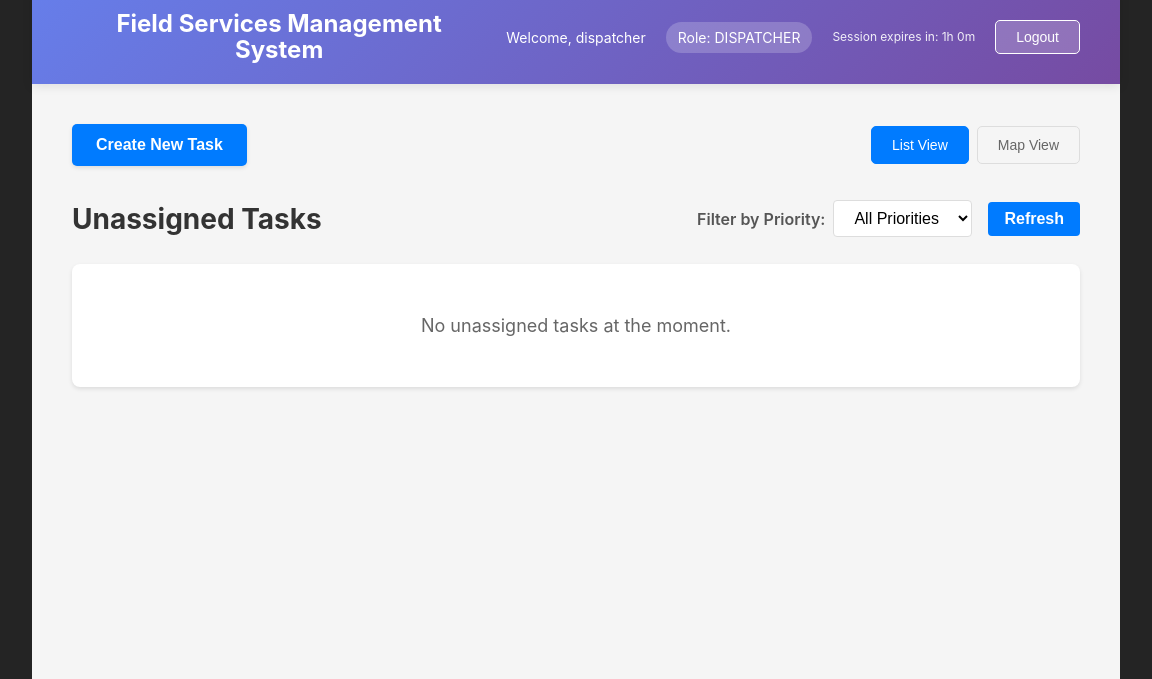
Test: Dashboard Component › should handle task creation successfully
This screenshot has width=1152, height=679.
Step 1. Click the button "Create New Task" → (159, 145), box [72, 124, 247, 166]
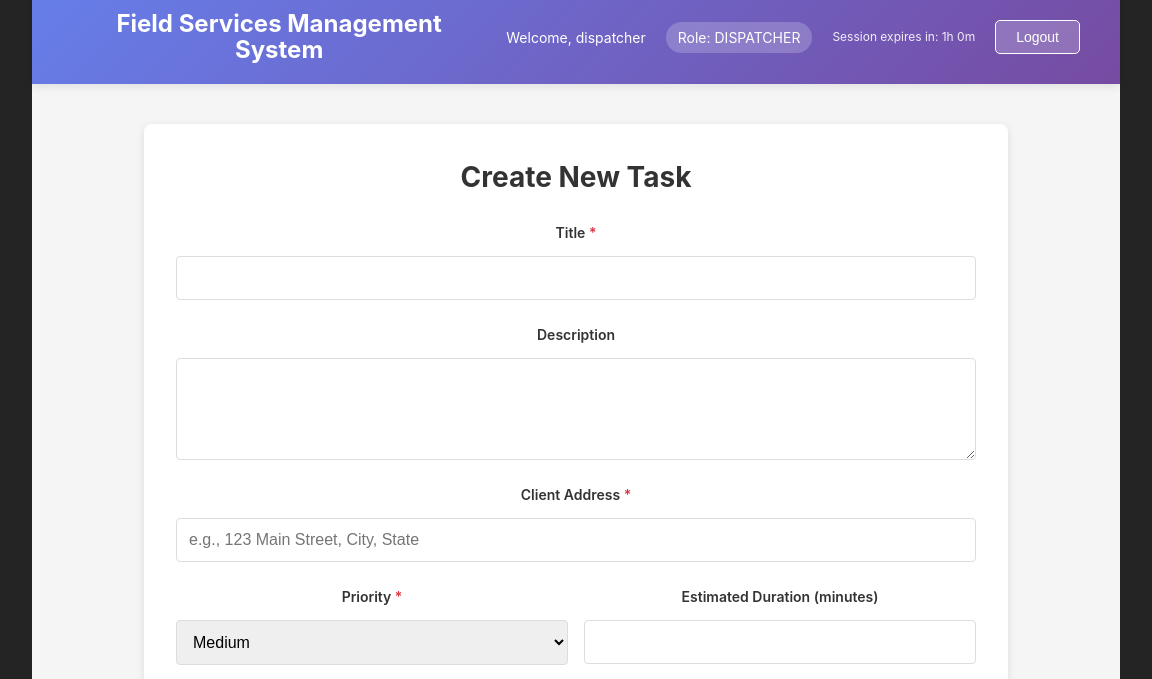
Expected: the heading "Create New Task" is shown, [461, 160, 691, 194]
Step 2. Type "New Task" into the field labelled "Title *" → (576, 278), box [176, 256, 976, 300]
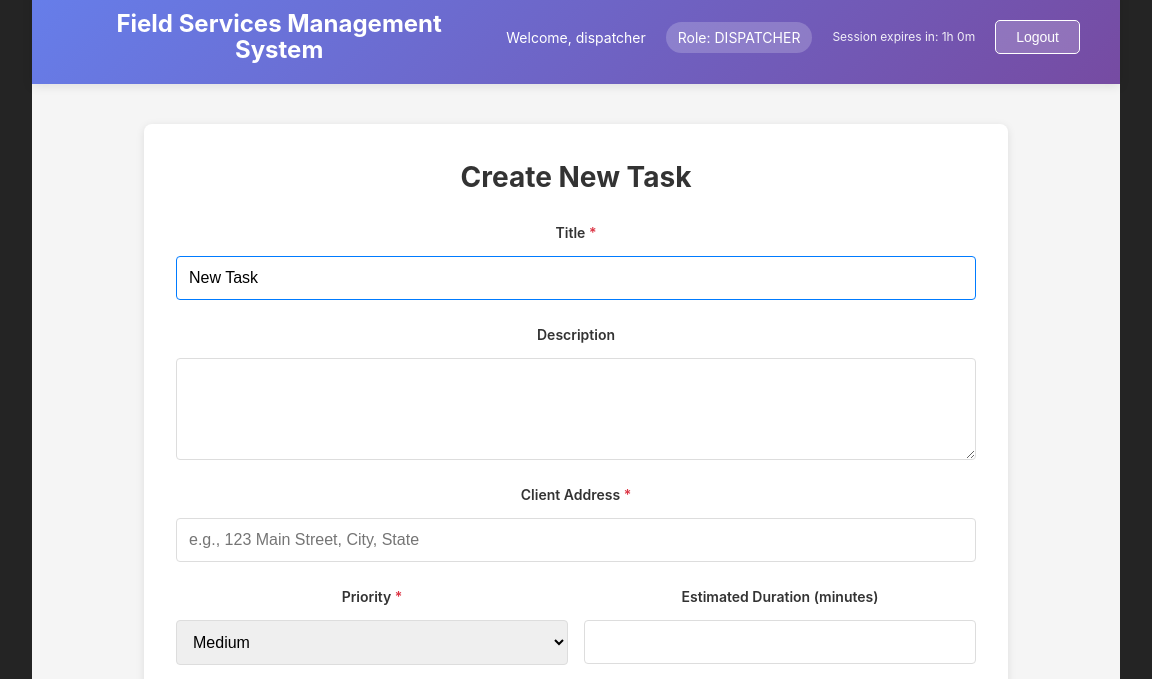
Step 3. Type "123 Main St" into the field labelled "Client Address *" → (576, 540), box [176, 518, 976, 562]
(page scrolled)
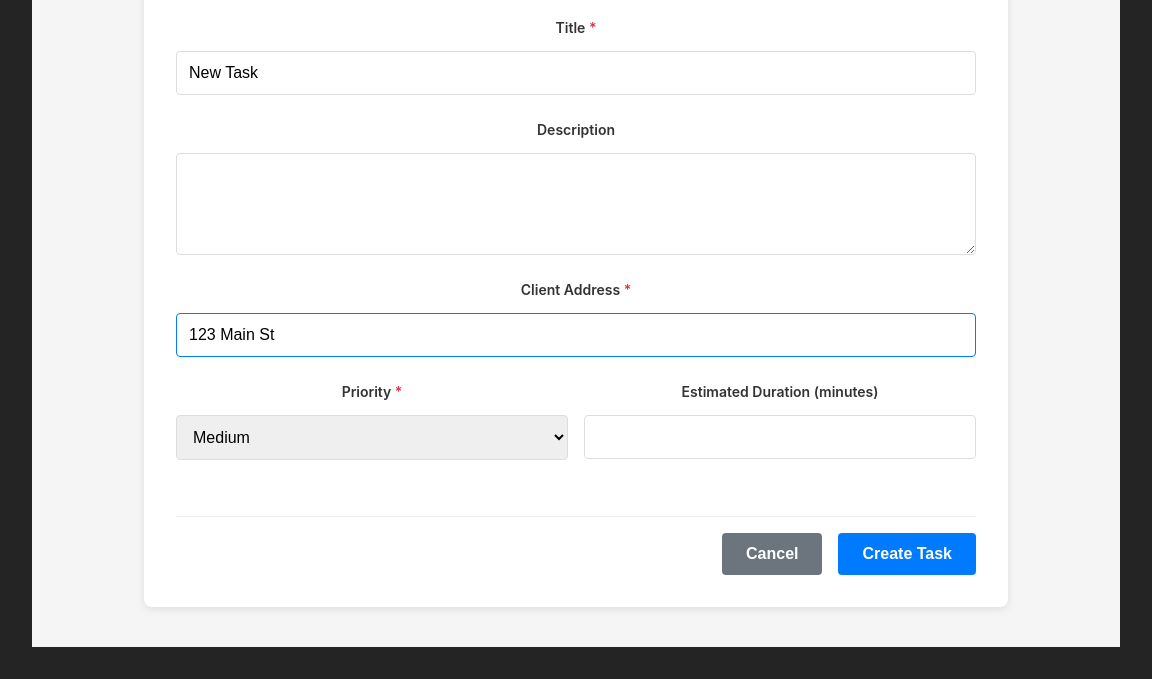
Step 4. Click the button "Create Task" → (907, 554), box [838, 533, 976, 575]
(page scrolled)
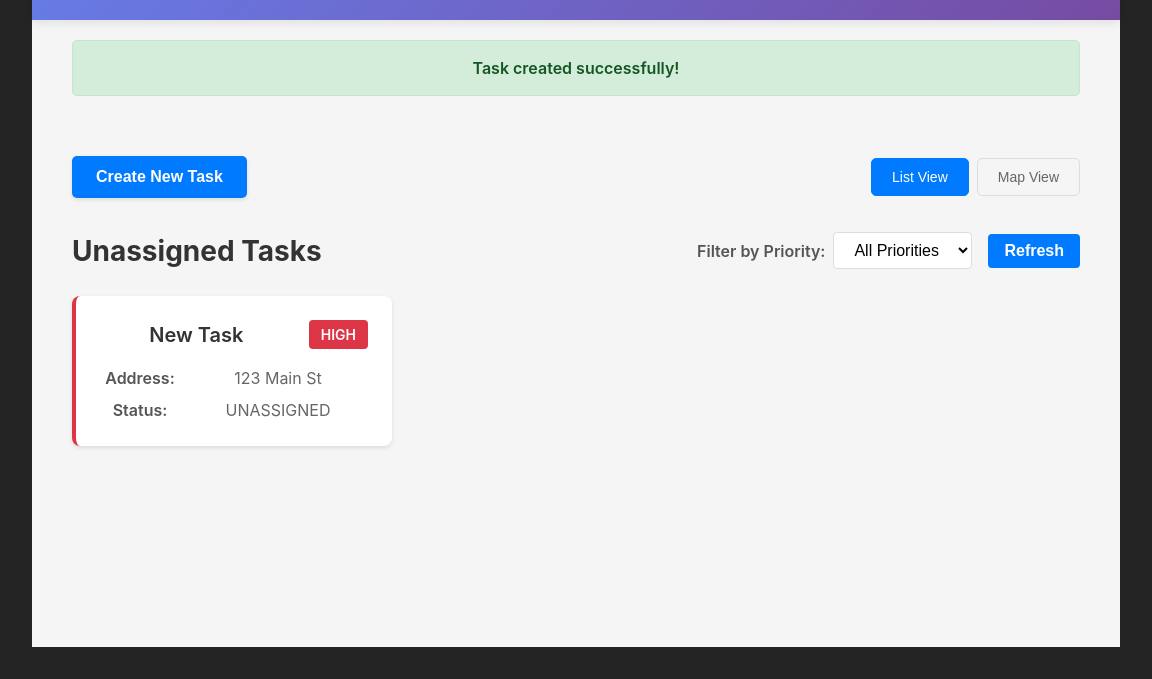
Expected: the text "Task created successfully!" is shown, [72, 40, 1080, 96]
